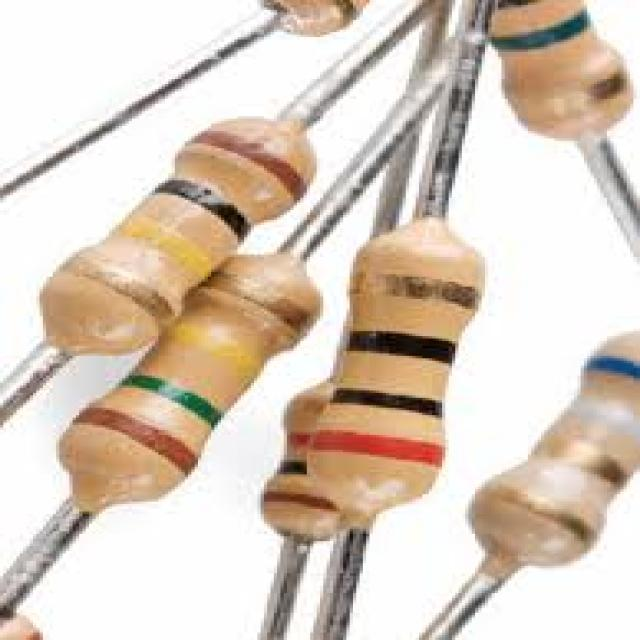Resistor: (299, 212, 546, 512), (58, 80, 302, 368), (62, 259, 317, 511), (475, 334, 638, 563), (484, 1, 631, 136), (633, 7, 640, 15), (633, 15, 640, 22)
